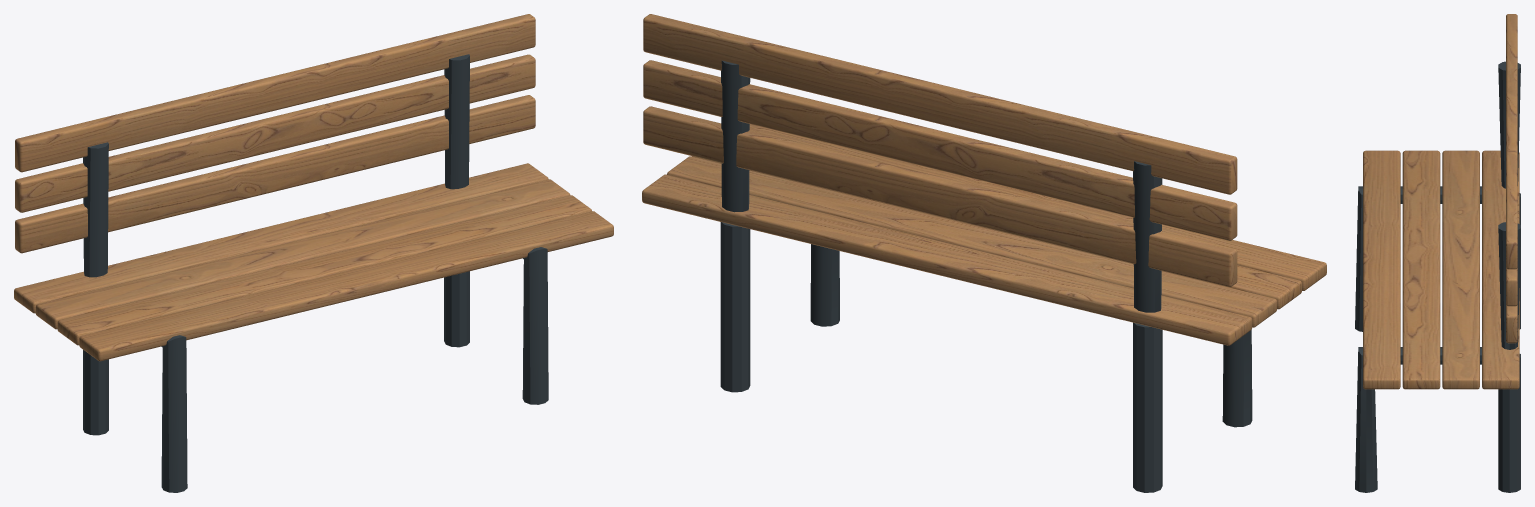
File: banco_parque_base.glb
3 views of the same model, side by side, from view 1: azimuth 30°, elevation 25°; view 2: azimuth 150°, elevation 25°; view 3: azimuth 270°, elevation 25° (orthographic). The views are drawn at different scales.
Parts seen in each view (by area): view 1: banco_parque_base; view 2: banco_parque_base; view 3: banco_parque_base.
Boxes of the visible parts, <box> form: banco_parque_base: <box>14,14,613,492</box>; banco_parque_base: <box>642,14,1326,492</box>; banco_parque_base: <box>1355,14,1520,492</box>.
Size of the model in its own units: 1.6 by 0.9101 by 0.4891.
2 materials, 1 textured.
